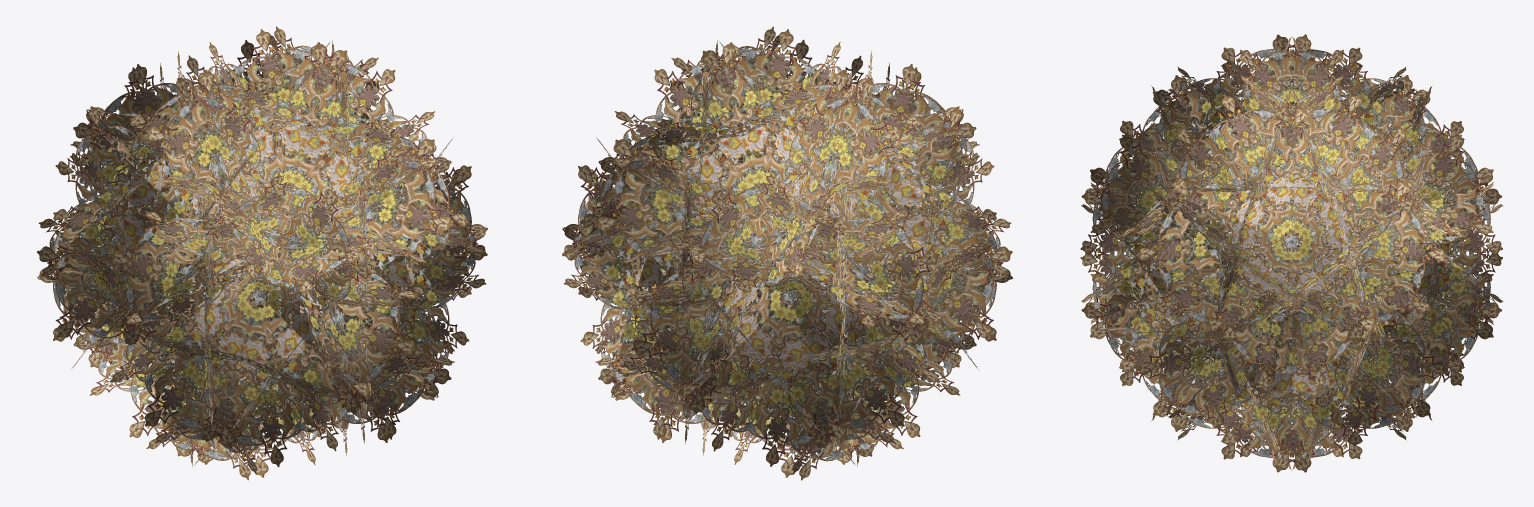
Rendered from TruncatedGreatIcosahedron13.gltf.
The picture shows the model from 3 angles, left to right: view 1: azimuth 30°, elevation 25°; view 2: azimuth 150°, elevation 25°; view 3: azimuth 270°, elevation 25°; orthographic projection. The views are drawn at different scales.
Parts seen in each view (by area): view 1: TruncatedGreatIcosahedron; view 2: TruncatedGreatIcosahedron; view 3: TruncatedGreatIcosahedron.
Boxes of the visible parts, x1,y1,x2,y2 form: TruncatedGreatIcosahedron: [37, 26, 487, 480]; TruncatedGreatIcosahedron: [562, 26, 1012, 480]; TruncatedGreatIcosahedron: [1080, 34, 1503, 472].
Size of the model in its own units: 2 by 2 by 2.
1 material, 1 textured.
